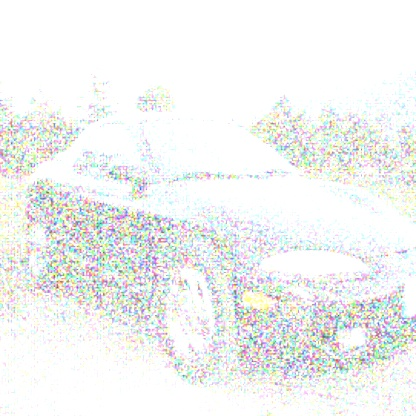Vehicle: (26, 112, 415, 389)
